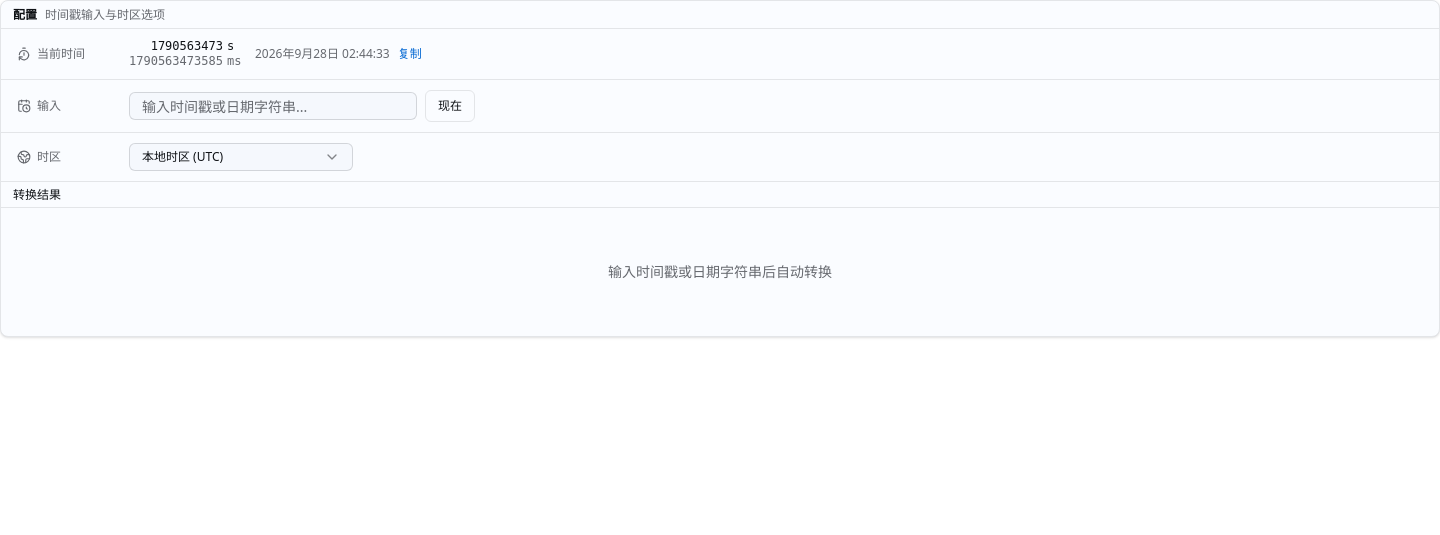
Scenario: TimestampConverter › 空输入不发请求并回到空态
In the field with test id "input": (273, 106) [129,92,417,120], type "1690272000"
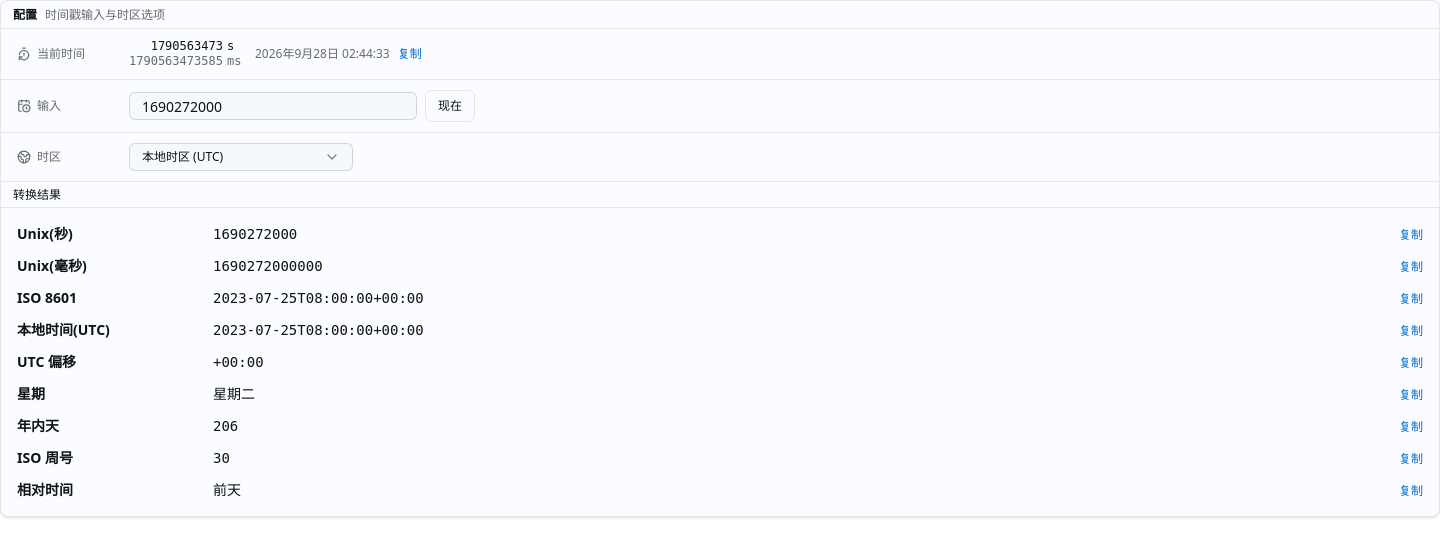
Clear the field with test id "input": (273, 106) [129,92,417,120]
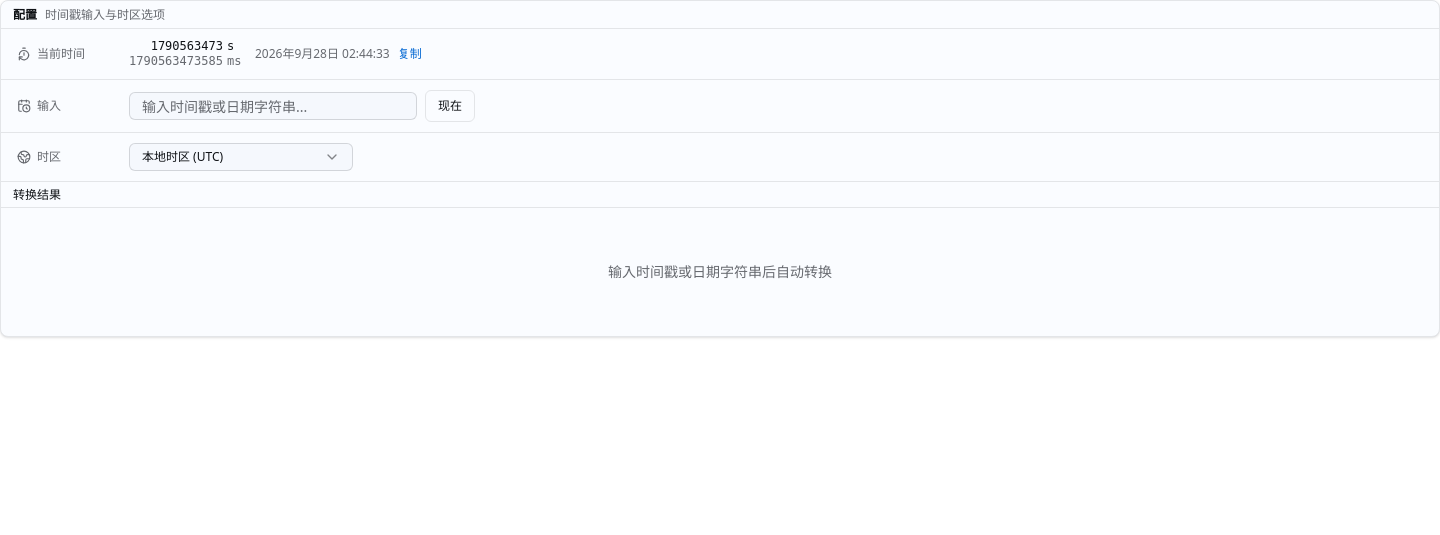
Result: the element with test id "output" shows "自动转换" at [608,262,832,281]
